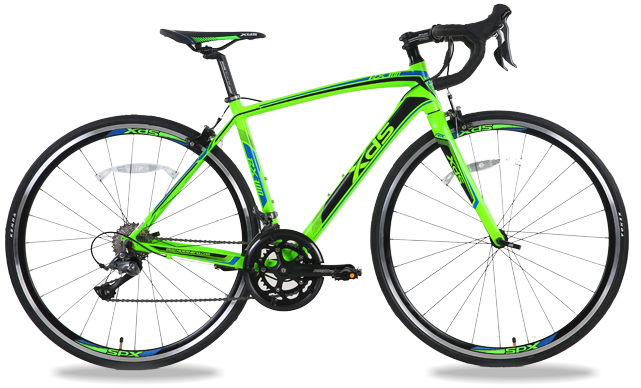MNV: (2, 16, 629, 366)
